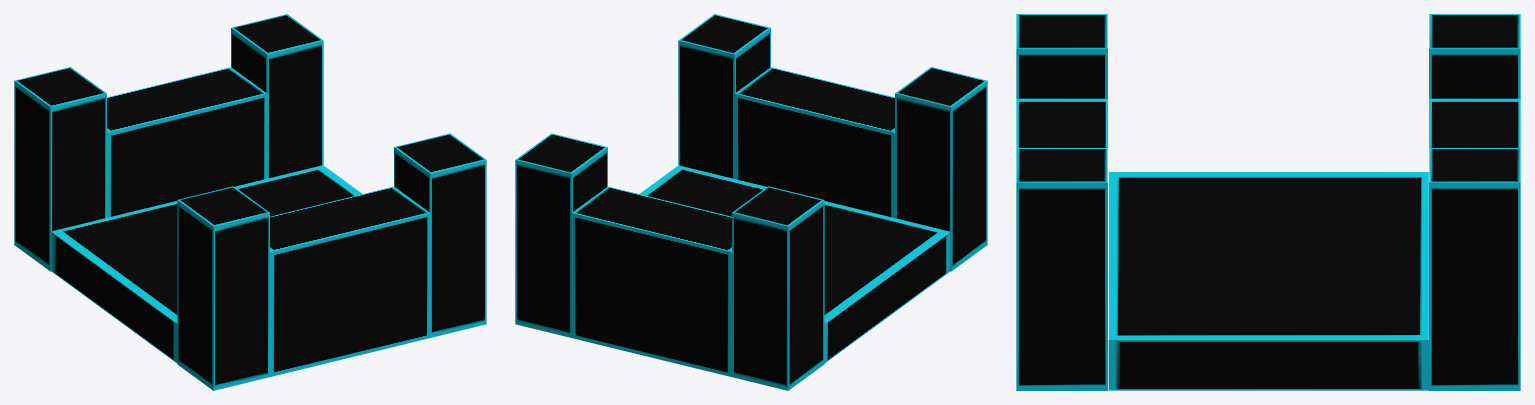
Rendered from bridge_border_ground.fbx.
The picture shows the model from 3 angles, left to right: view 1: azimuth 30°, elevation 25°; view 2: azimuth 150°, elevation 25°; view 3: azimuth 270°, elevation 25°; orthographic projection. The views are drawn at different scales.
Visible parts, largest first — view 1: bridgeFlatWithGround; view 2: bridgeFlatWithGround; view 3: bridgeFlatWithGround.
Boxes of the visible parts, <box> form: bridgeFlatWithGround: <box>14,14,486,390</box>; bridgeFlatWithGround: <box>515,14,987,390</box>; bridgeFlatWithGround: <box>1016,14,1520,390</box>.
Size of the model in its own units: 143 by 82.3 by 181.
